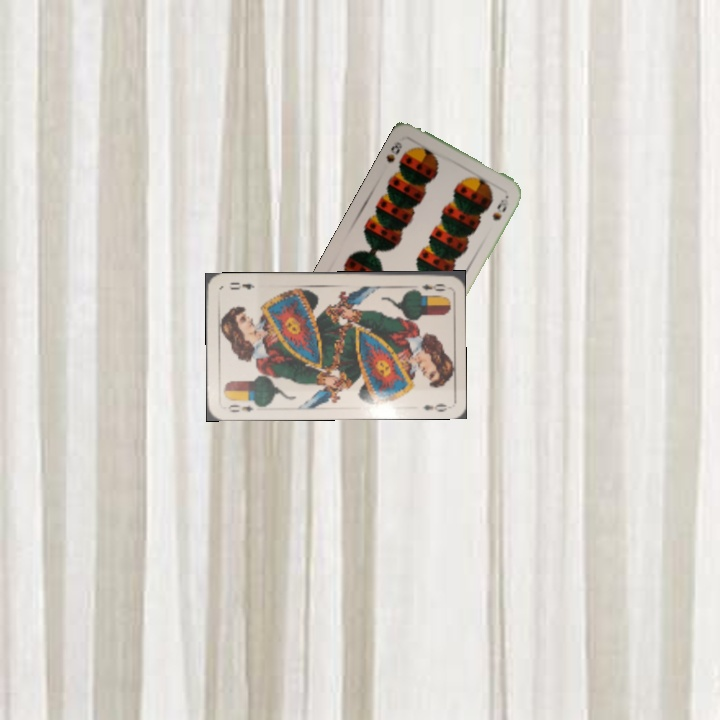EO: (224, 396, 262, 415), (418, 280, 448, 294)
S8: (382, 138, 405, 165)
